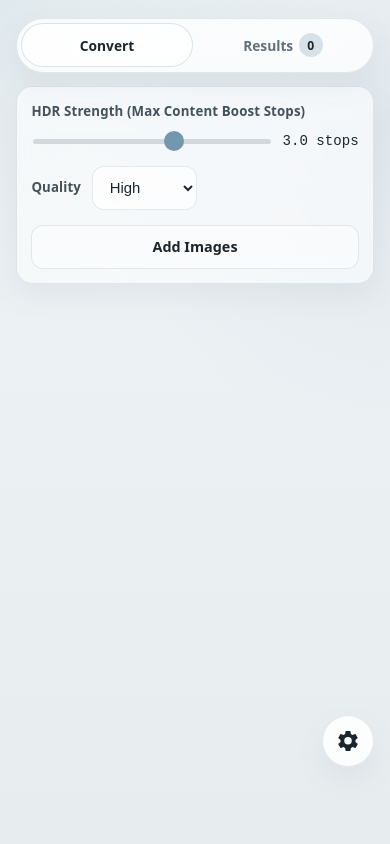
Scenario: ImageProcessor queue-centric workflow cards › keeps completed cards exportable while later queued cards stay out of the selection set
Click the tab with test id "tab-results" at x=283, y=45, box [197,23,368,67]
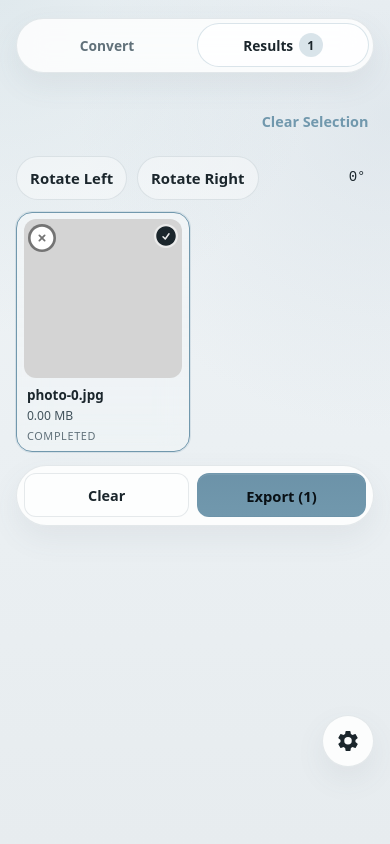
Expected: the button "Export (1)" is shown, [197,474,366,518]
Click the button with test id "result-select-0" at x=166, y=236, box [154,224,178,248]
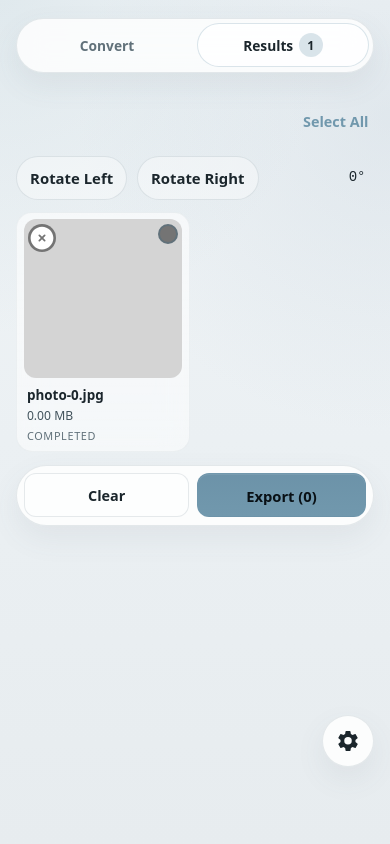
Expected: the button "Export (0)" is shown, [197,474,366,518]
